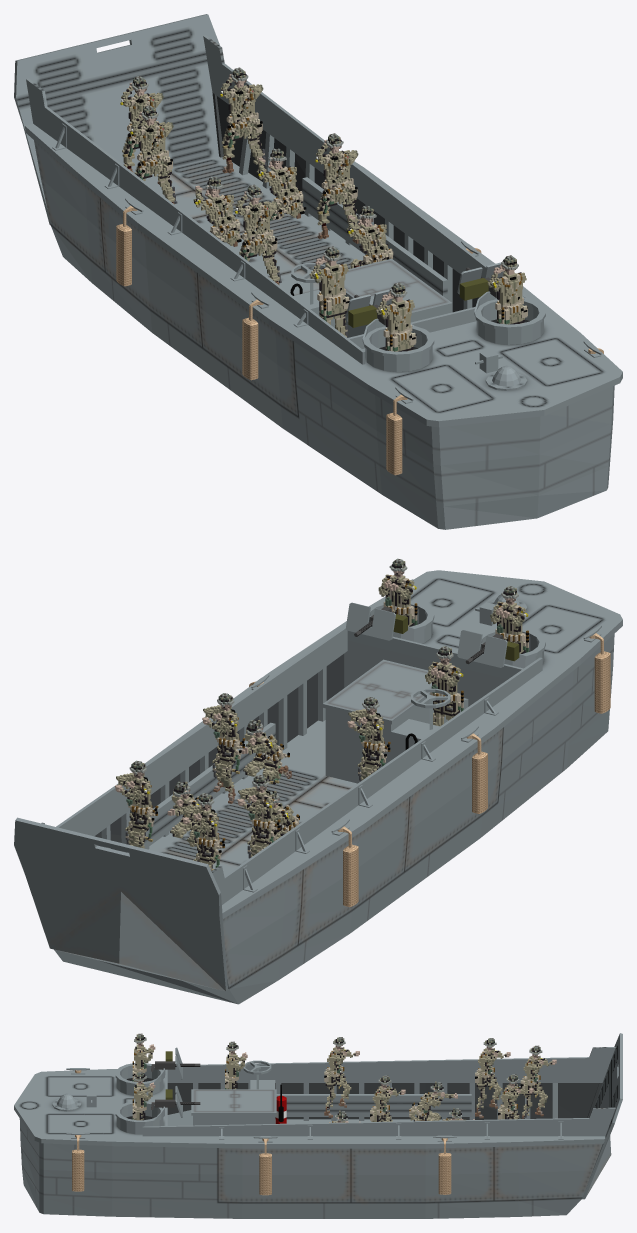
The model's file is landing_craft.glb.
The picture shows the model from 3 angles, top to bottom: view 1: azimuth 30°, elevation 25°; view 2: azimuth 150°, elevation 25°; view 3: azimuth 270°, elevation 25°; orthographic projection. The views are drawn at different scales.
Parts seen in each view (by area): view 1: 00_chassis_higgins_hull.mesh, crew_soldier_SLOT_10_PASSENGER, crew_soldier_SLOT_06_PASSENGER, crew_soldier_SLOT_03_PASSENGER, crew_soldier_SLOT_07_PASSENGER, crew_soldier_SLOT_00_DRIVER, 03_turret_higgins_turret.mesh, 05_turret_higgins_turret.mesh, crew_soldier_SLOT_08_PASSENGER, crew_soldier_SLOT_01_GUNNER, crew_soldier_SLOT_02_GUNNER, crew_soldier_SLOT_05_PASSENGER (+2 smaller); view 2: 00_chassis_higgins_hull.mesh, crew_soldier_SLOT_06_PASSENGER, crew_soldier_SLOT_10_PASSENGER, 05_turret_higgins_turret.mesh, 03_turret_higgins_turret.mesh, crew_soldier_SLOT_07_PASSENGER, crew_soldier_SLOT_03_PASSENGER, crew_soldier_SLOT_04_PASSENGER, crew_soldier_SLOT_09_PASSENGER, crew_soldier_SLOT_00_DRIVER, crew_soldier_SLOT_02_GUNNER, crew_soldier_SLOT_01_GUNNER (+2 smaller); view 3: 00_chassis_higgins_hull.mesh, crew_soldier_SLOT_03_PASSENGER, crew_soldier_SLOT_07_PASSENGER, crew_soldier_SLOT_09_PASSENGER, 05_turret_higgins_turret.mesh, 03_turret_higgins_turret.mesh, crew_soldier_SLOT_05_PASSENGER, crew_soldier_SLOT_06_PASSENGER, crew_soldier_SLOT_10_PASSENGER, crew_soldier_SLOT_02_GUNNER, crew_soldier_SLOT_00_DRIVER, crew_soldier_SLOT_01_GUNNER.
Part boxes in pixels (x1,y1,x2,y2): 00_chassis_higgins_hull.mesh: [14, 14, 622, 529]; crew_soldier_SLOT_10_PASSENGER: [220, 67, 266, 177]; crew_soldier_SLOT_06_PASSENGER: [315, 133, 360, 243]; crew_soldier_SLOT_03_PASSENGER: [235, 184, 281, 284]; crew_soldier_SLOT_07_PASSENGER: [130, 105, 177, 204]; crew_soldier_SLOT_00_DRIVER: [309, 246, 349, 337]; 03_turret_higgins_turret.mesh: [345, 289, 434, 357]; 05_turret_higgins_turret.mesh: [457, 262, 545, 330]; crew_soldier_SLOT_08_PASSENGER: [256, 148, 306, 220]; crew_soldier_SLOT_01_GUNNER: [376, 282, 416, 351]; crew_soldier_SLOT_02_GUNNER: [487, 255, 527, 324]; crew_soldier_SLOT_05_PASSENGER: [193, 176, 241, 246]; 00_chassis_higgins_hull.mesh: [14, 570, 622, 1004]; crew_soldier_SLOT_06_PASSENGER: [202, 693, 245, 803]; crew_soldier_SLOT_10_PASSENGER: [115, 760, 158, 848]; 05_turret_higgins_turret.mesh: [345, 601, 434, 640]; 03_turret_higgins_turret.mesh: [457, 628, 545, 667]; crew_soldier_SLOT_07_PASSENGER: [237, 774, 280, 858]; crew_soldier_SLOT_03_PASSENGER: [347, 696, 390, 781]; crew_soldier_SLOT_04_PASSENGER: [241, 720, 291, 784]; crew_soldier_SLOT_09_PASSENGER: [182, 793, 225, 870]; crew_soldier_SLOT_00_DRIVER: [425, 646, 463, 726]; crew_soldier_SLOT_02_GUNNER: [378, 558, 417, 626]; crew_soldier_SLOT_01_GUNNER: [490, 586, 528, 653]; 00_chassis_higgins_hull.mesh: [14, 1033, 622, 1218]; crew_soldier_SLOT_03_PASSENGER: [324, 1037, 359, 1117]; crew_soldier_SLOT_07_PASSENGER: [475, 1038, 510, 1118]; crew_soldier_SLOT_09_PASSENGER: [520, 1045, 556, 1118]; 05_turret_higgins_turret.mesh: [115, 1086, 200, 1123]; 03_turret_higgins_turret.mesh: [115, 1047, 200, 1085]; crew_soldier_SLOT_05_PASSENGER: [409, 1081, 457, 1121]; crew_soldier_SLOT_06_PASSENGER: [370, 1075, 405, 1121]; crew_soldier_SLOT_10_PASSENGER: [498, 1074, 533, 1119]; crew_soldier_SLOT_02_GUNNER: [132, 1072, 155, 1120]; crew_soldier_SLOT_00_DRIVER: [225, 1041, 247, 1089]; crew_soldier_SLOT_01_GUNNER: [132, 1033, 155, 1081].
Size of the model in its own units: 4.25 by 3.64 by 13.32.
37 materials, 1 textured.
